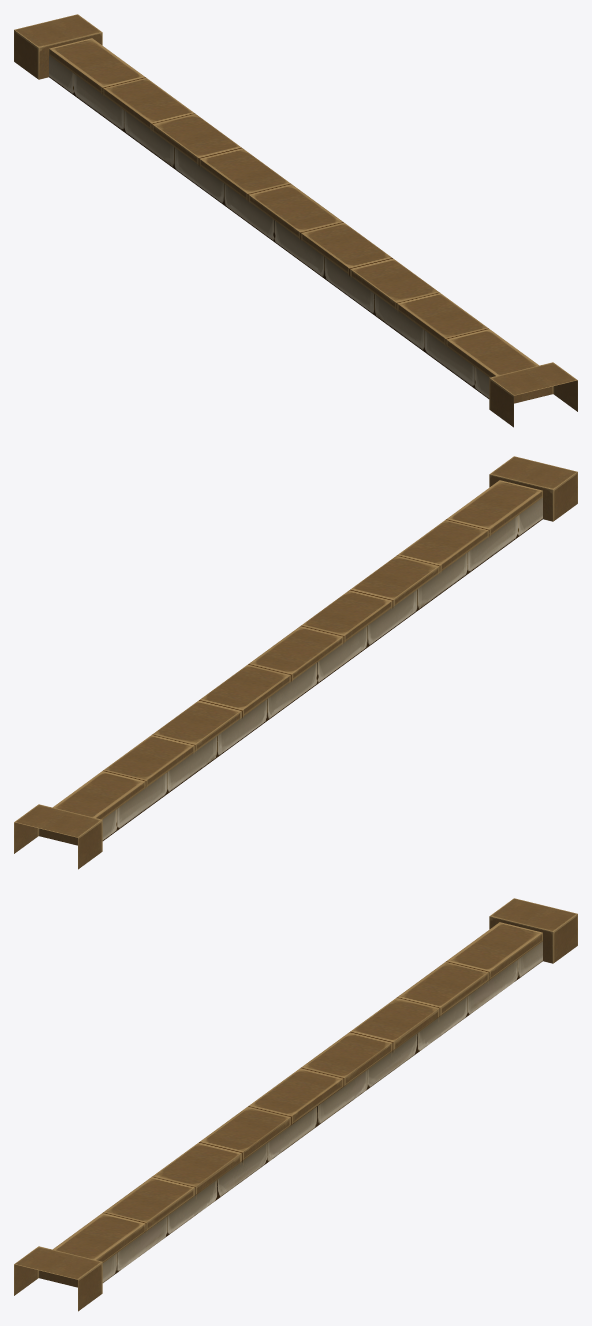
The model's file is LowerWall.fbx.
3 renders of one model, top to bottom at view 1: azimuth 30°, elevation 25°; view 2: azimuth 150°, elevation 25°; view 3: azimuth 330°, elevation 25°, orthographic.
Parts seen in each view (by area): view 1: lowerWall_1; view 2: lowerWall_1; view 3: lowerWall_1.
Boxes of the visible parts, x1=… form: lowerWall_1: x1=14, y1=14, x2=577, y2=427; lowerWall_1: x1=14, y1=456, x2=577, y2=869; lowerWall_1: x1=14, y1=898, x2=577, y2=1311.
Bounding box in the file's own units: 18.55 × 8.86 × 252.
